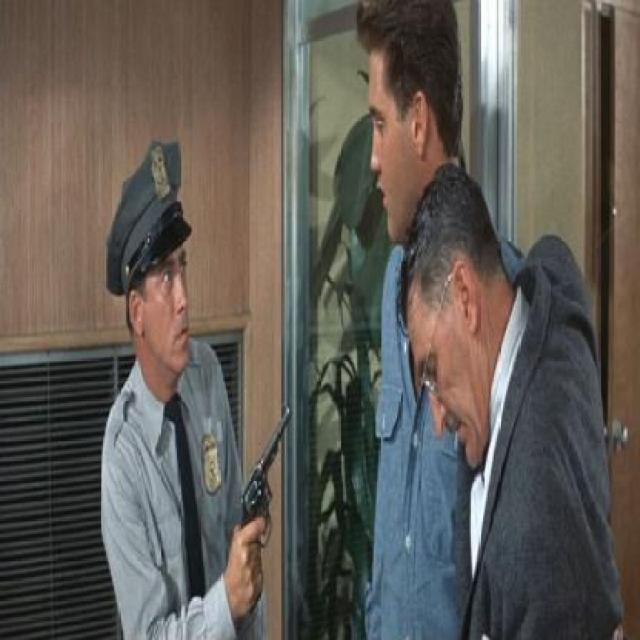gun: (225, 394, 308, 556)
